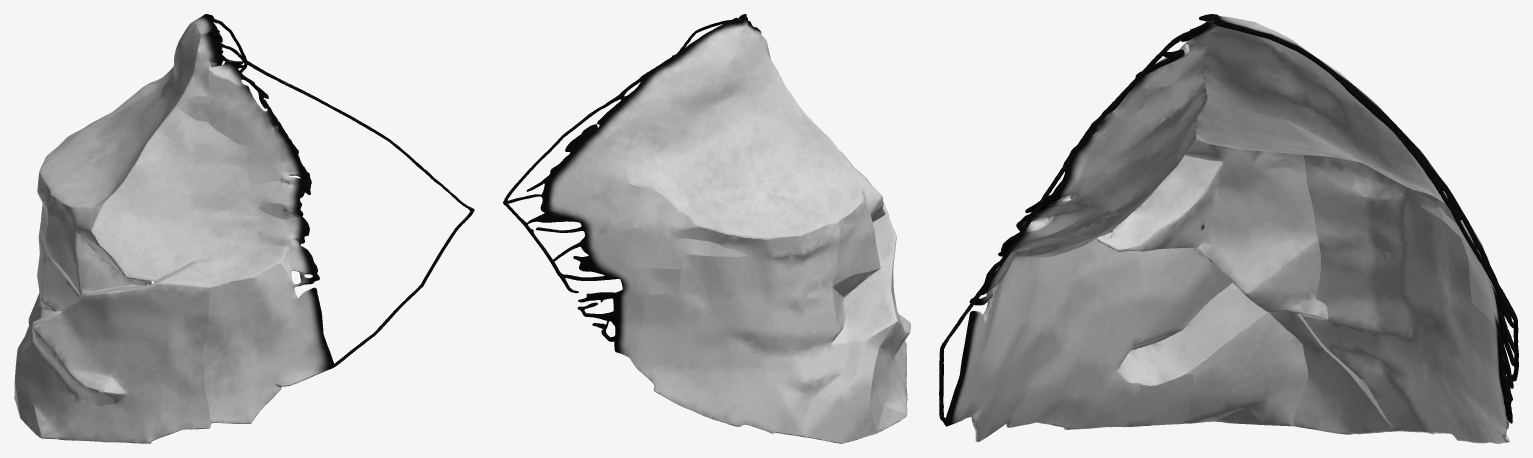
3 renders of one model, left to right at view 1: azimuth 30°, elevation 25°; view 2: azimuth 150°, elevation 25°; view 3: azimuth 270°, elevation 25°, orthographic. The views are drawn at different scales.
Parts seen in each view (by area): view 1: world; view 2: world; view 3: world.
Boxes of the visible parts, bbox=[...] form: world: bbox=[14, 14, 474, 443]; world: bbox=[503, 14, 910, 443]; world: bbox=[939, 14, 1518, 443].
Bounding box in the file's own units: 0.1436 × 0.15 × 0.1498.
1 material, 1 textured.
